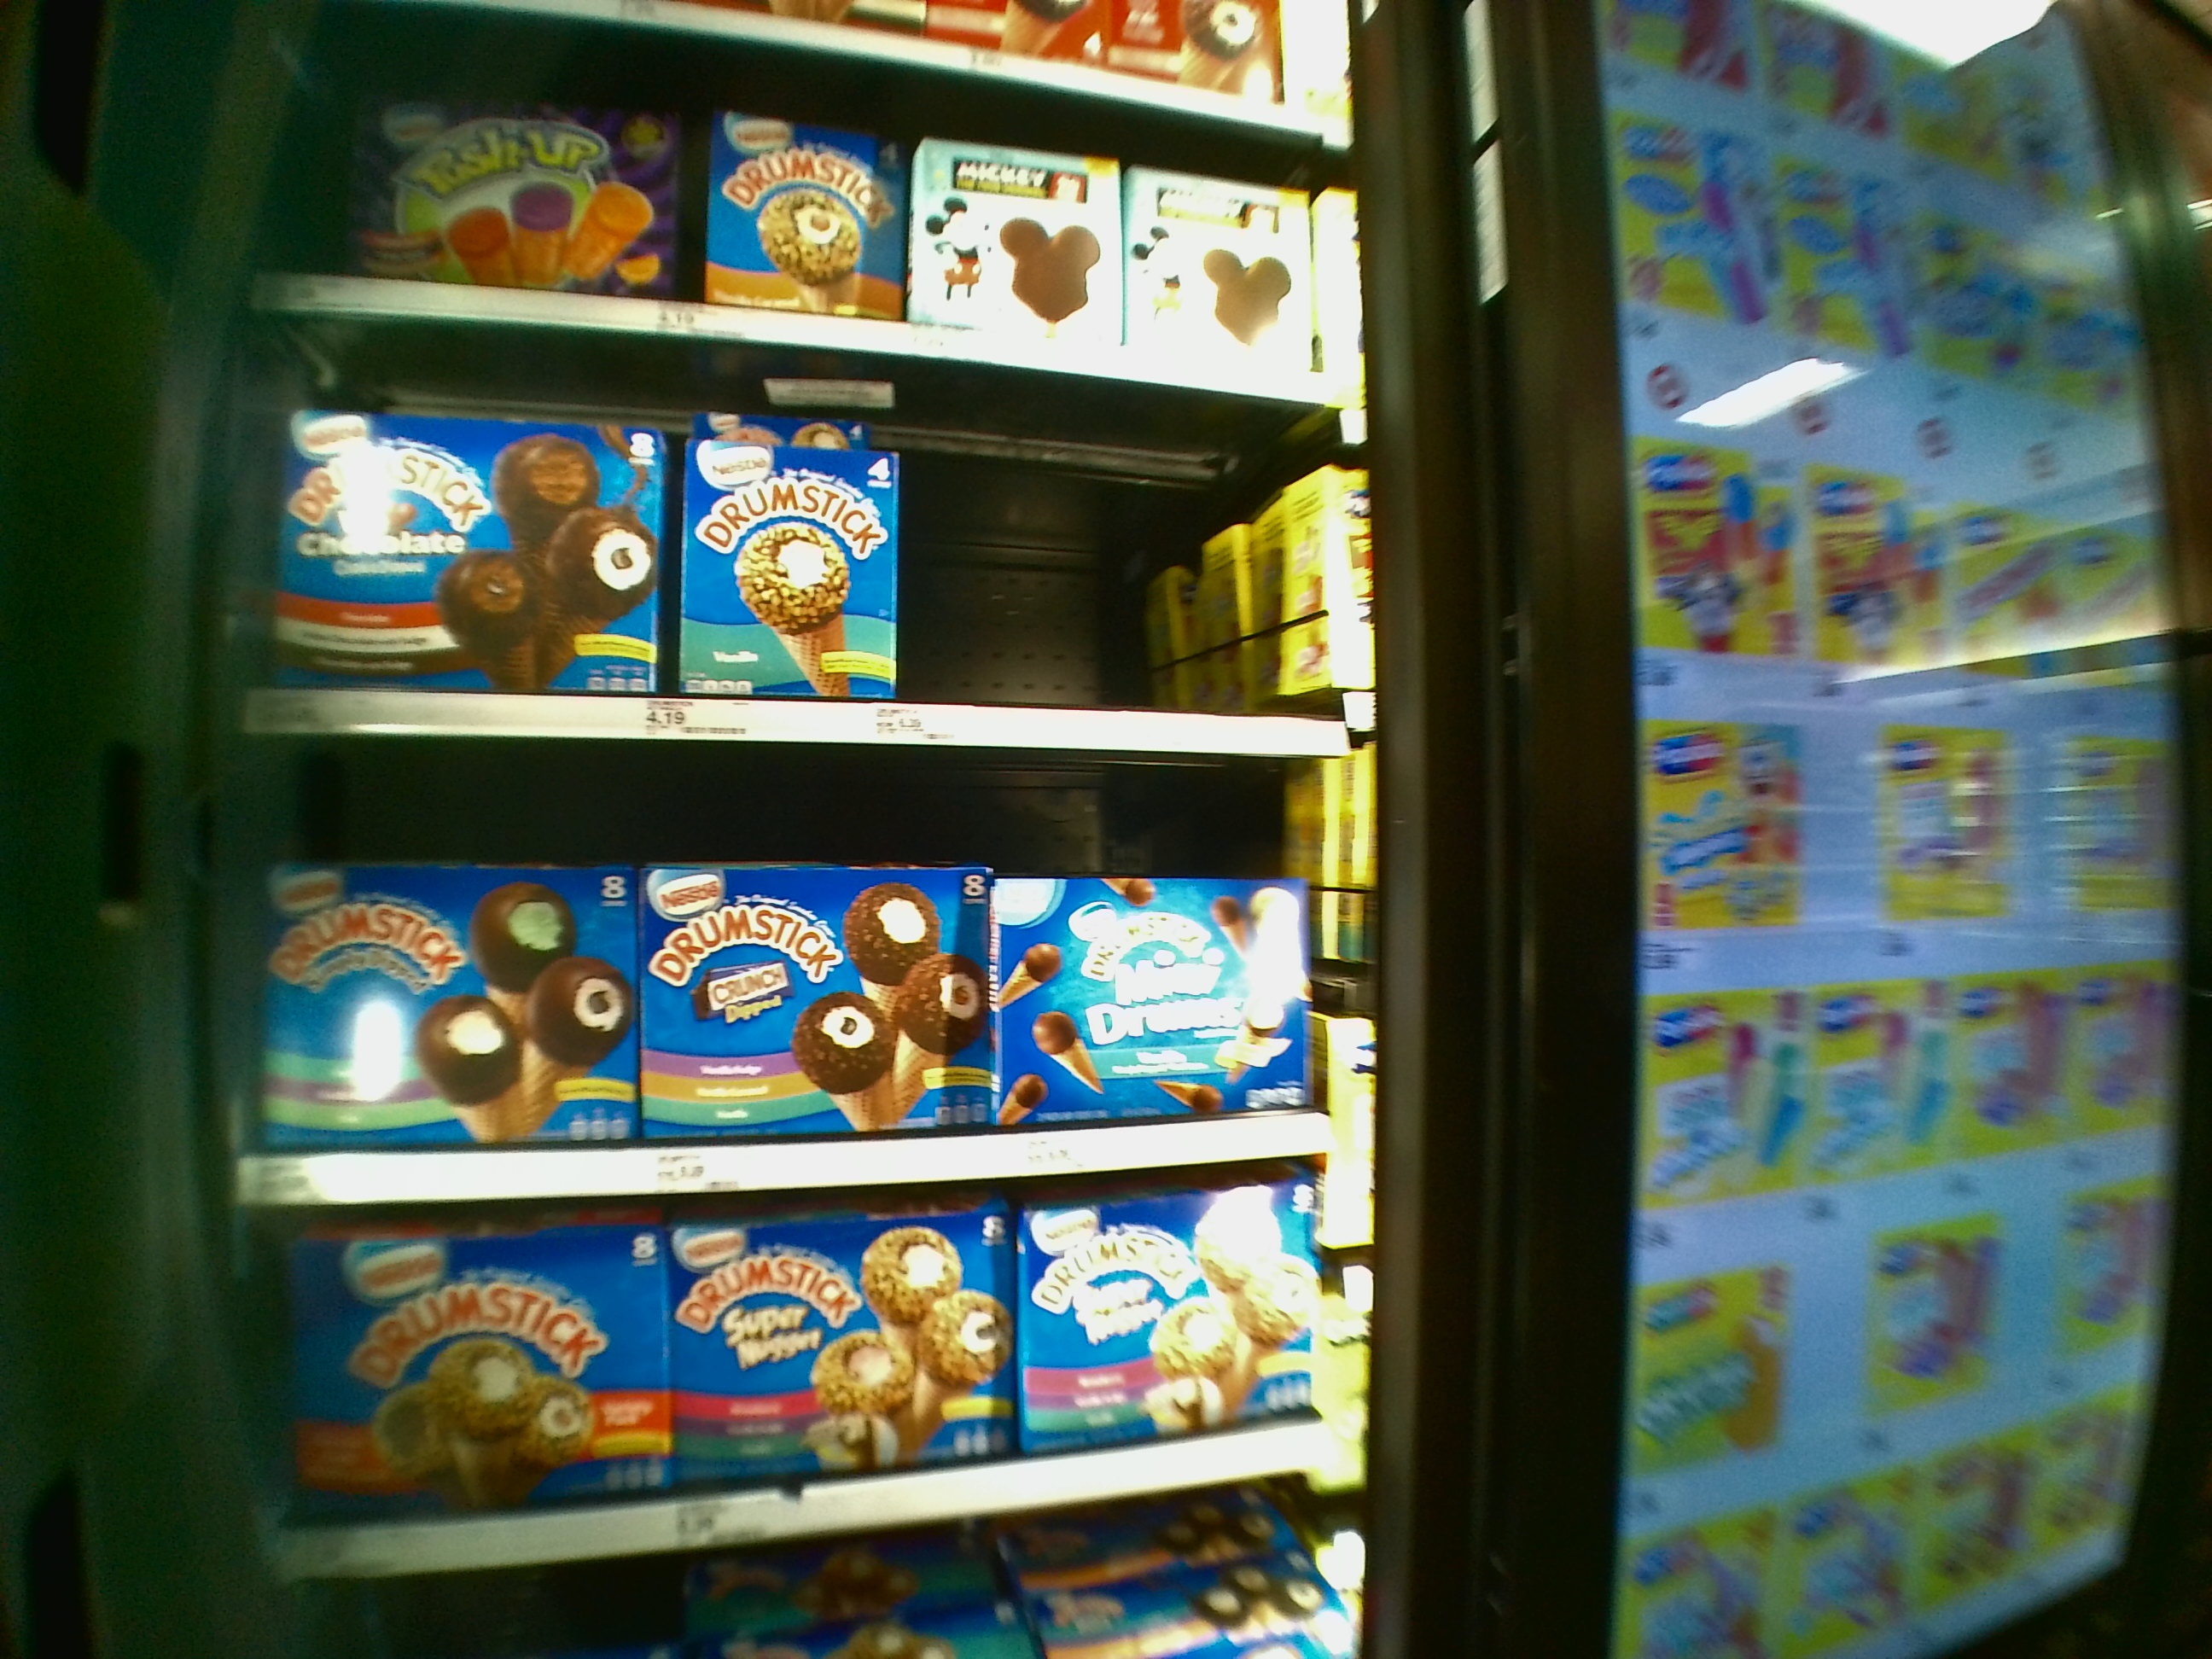shelf: (235, 737, 1371, 1199), (239, 364, 1350, 753), (240, 1202, 1367, 1535)
